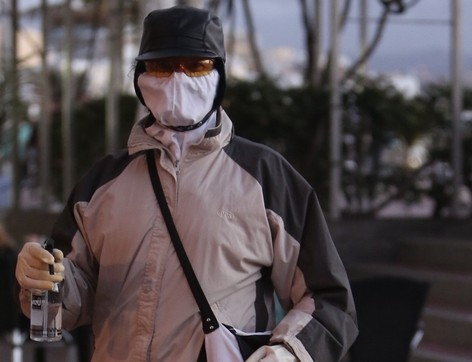with_mask: (136, 23, 229, 128)
